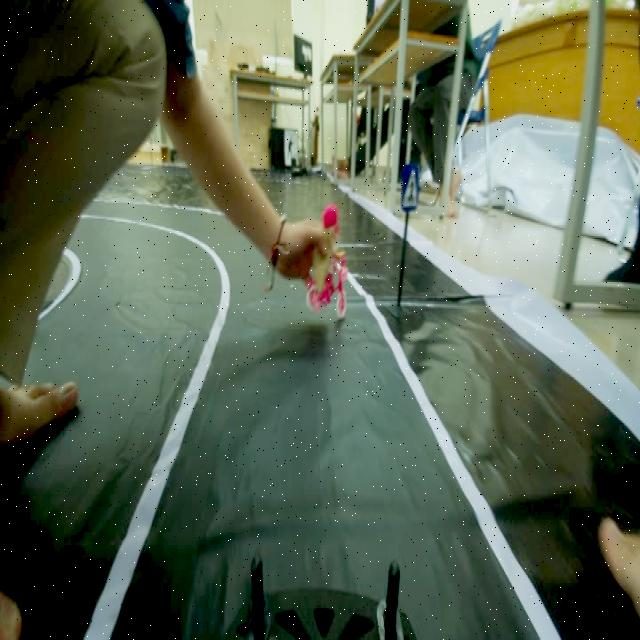crosswalk: (392, 159, 424, 216)
